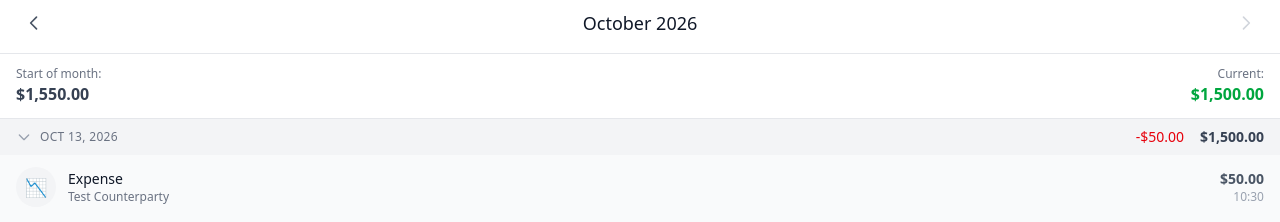
AccountTransactionList › Date expansion › collapses expanded date on click
The image size is (1280, 222).
Expected: the text "Test Counterparty" is shown, [68,188,169,205]
Click the element with class "cursor-pointer" showing "Oct 13, 2026 -$50.00 $1,500.00": (640, 137) [0,119,1279,155]
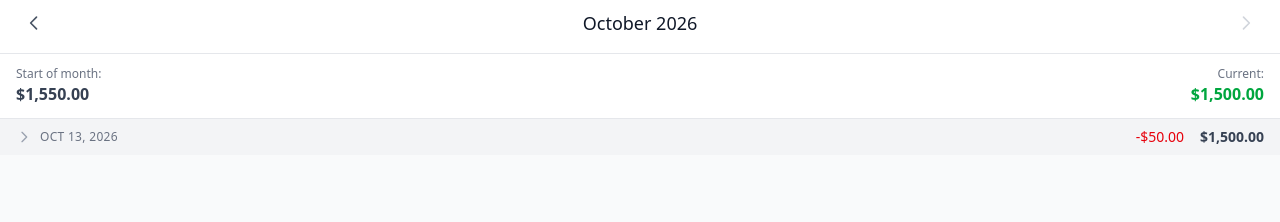
Expected: the button "Test Counterparty" is gone
